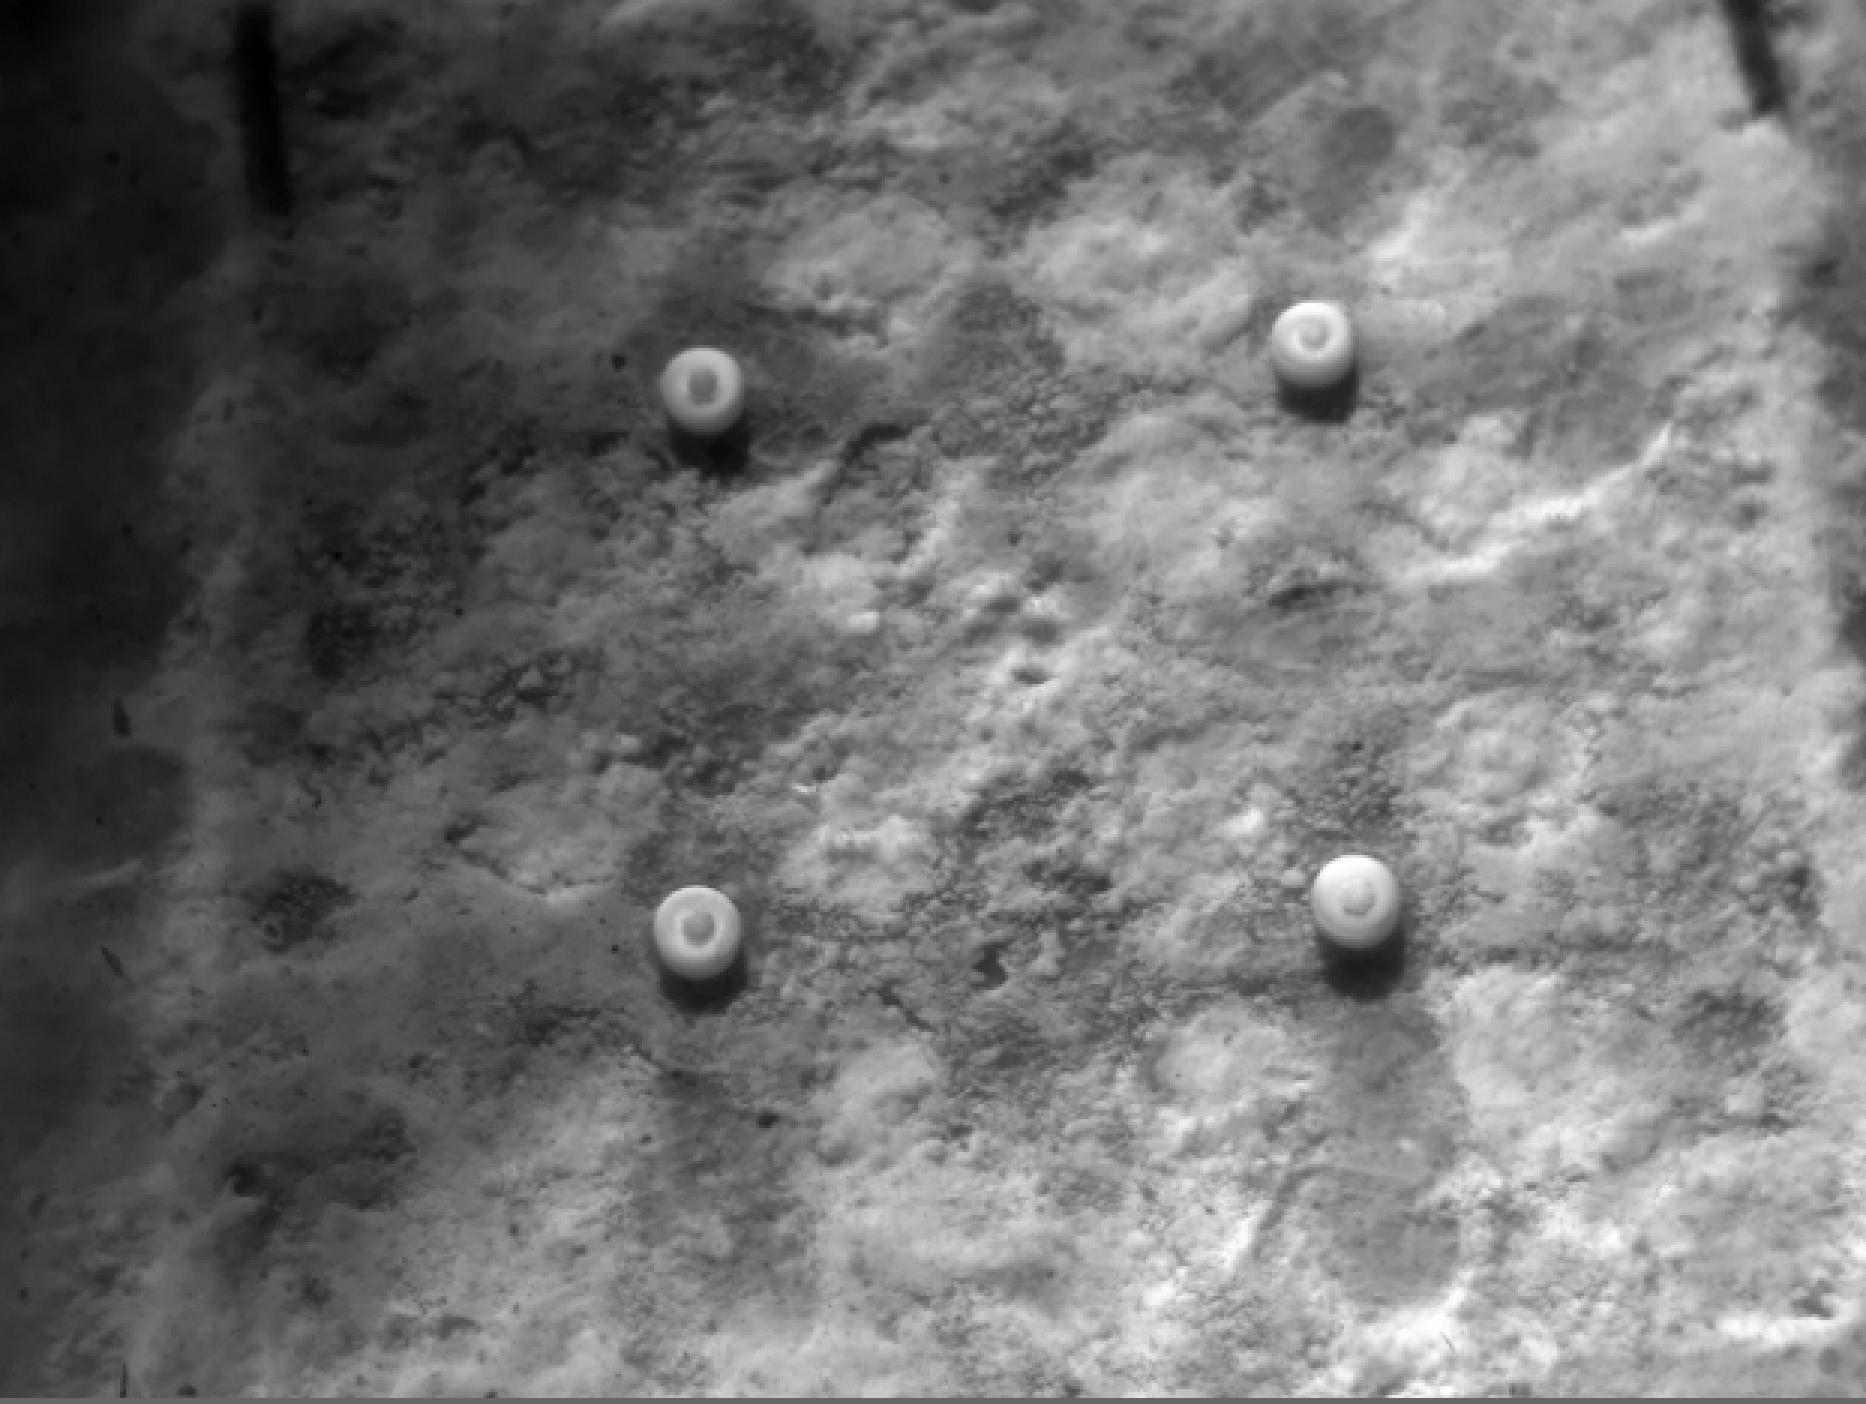mines-gjV8: (1274, 295, 1356, 389), (1305, 855, 1392, 941), (662, 888, 740, 967), (662, 352, 739, 428)
